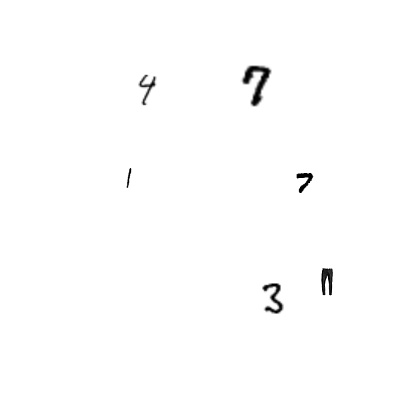1: (114, 163, 142, 191)
3: (252, 276, 294, 318)
4: (125, 66, 167, 108)
7: (227, 52, 283, 108), (290, 166, 318, 194)
Trouser: (313, 268, 341, 296)
